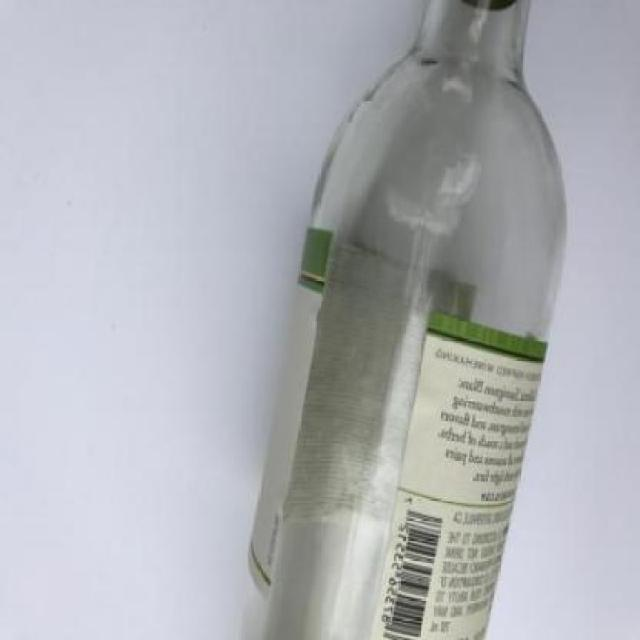GLASS: (229, 1, 568, 638)
